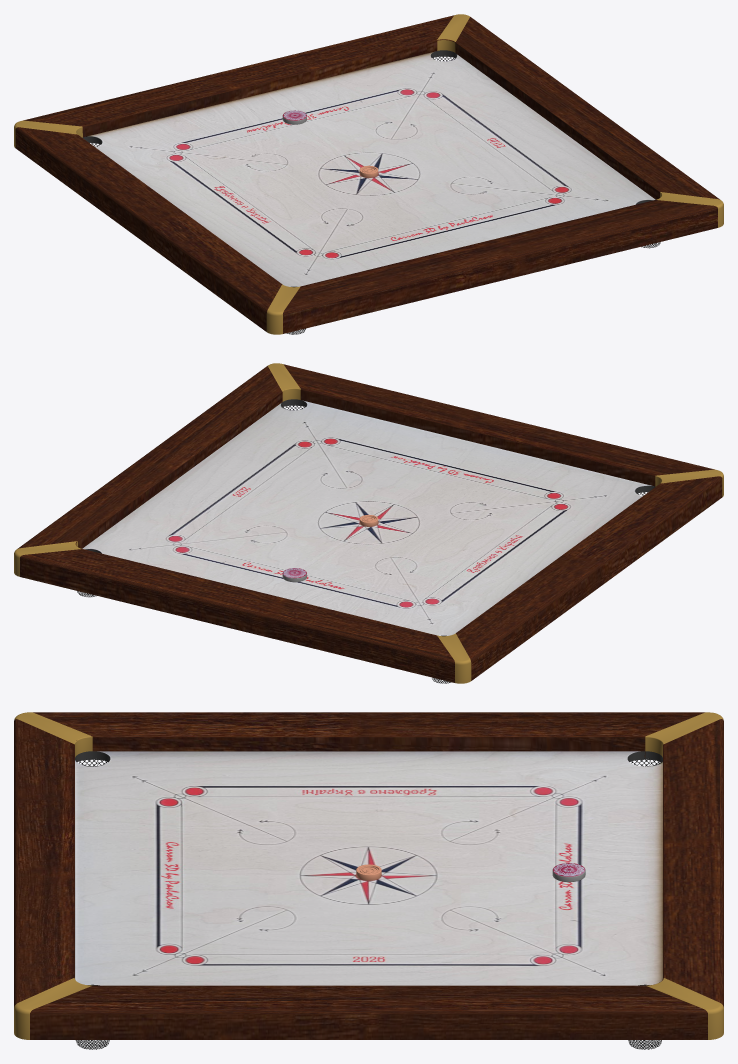
File: carrom-draco.glb
The picture shows the model from 3 angles, top to bottom: view 1: azimuth 30°, elevation 25°; view 2: azimuth 150°, elevation 25°; view 3: azimuth 270°, elevation 25°; orthographic projection. The views are drawn at different scales.
Visible parts, largest first — view 1: mesh_board_surface, mesh_board_frame; view 2: mesh_board_surface, mesh_board_frame; view 3: mesh_board_surface, mesh_board_frame, mesh_pockets, mesh_striker.
Part boxes in pixels (x1,y1,x2,y2): mesh_board_surface: (84, 51, 655, 287); mesh_board_frame: (14, 14, 723, 334); mesh_board_surface: (82, 400, 654, 636); mesh_board_frame: (14, 363, 723, 683); mesh_board_surface: (75, 751, 662, 985); mesh_board_frame: (14, 712, 723, 1039); mesh_pockets: (75, 758, 661, 1049); mesh_striker: (552, 863, 585, 882).
Bounding box in the file's own units: 0.887 × 0.09 × 0.887.
10 materials, 4 textured.
